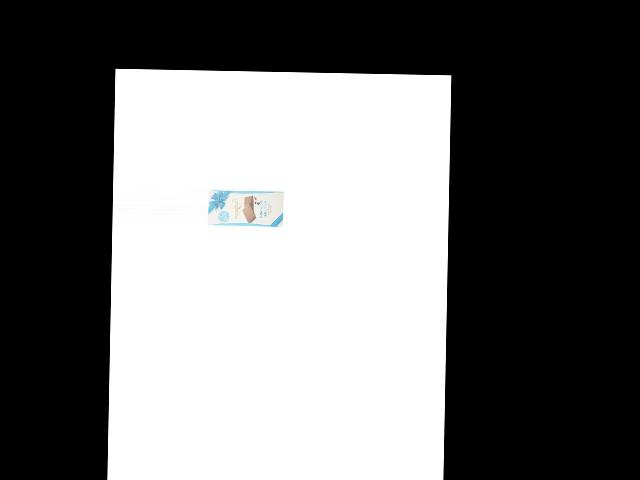chocolate: (206, 184, 285, 230)
